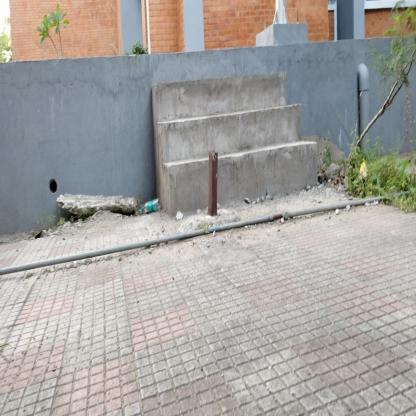stairs: (175, 44, 281, 222)
